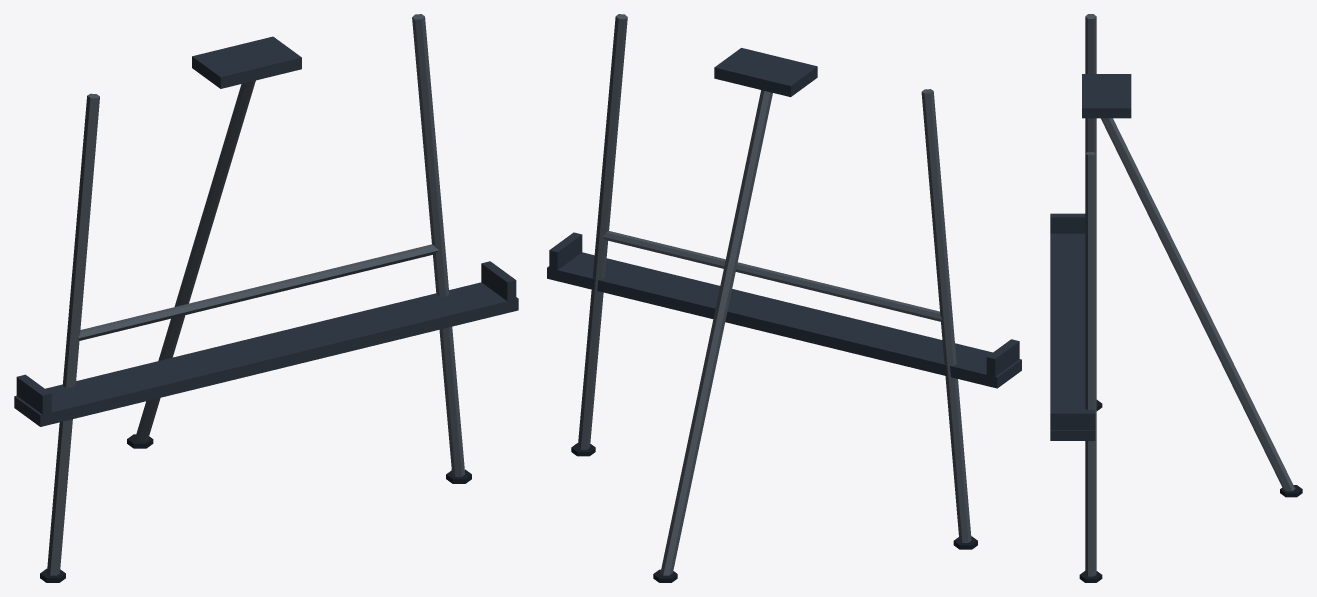
The model's file is cavalete_quadro.glb.
3 renders of one model, left to right at view 1: azimuth 30°, elevation 25°; view 2: azimuth 150°, elevation 25°; view 3: azimuth 270°, elevation 25°, orthographic. The views are drawn at different scales.
Parts seen in each view (by area): view 1: cavalete_quadro_malha; view 2: cavalete_quadro_malha; view 3: cavalete_quadro_malha.
Part boxes in pixels (x1=…): cavalete_quadro_malha: x1=14, y1=14, x2=518, y2=582; cavalete_quadro_malha: x1=547, y1=14, x2=1021, y2=582; cavalete_quadro_malha: x1=1050, y1=14, x2=1302, y2=582.
Size of the model in its own units: 2.12 by 2.01 by 1.12.
